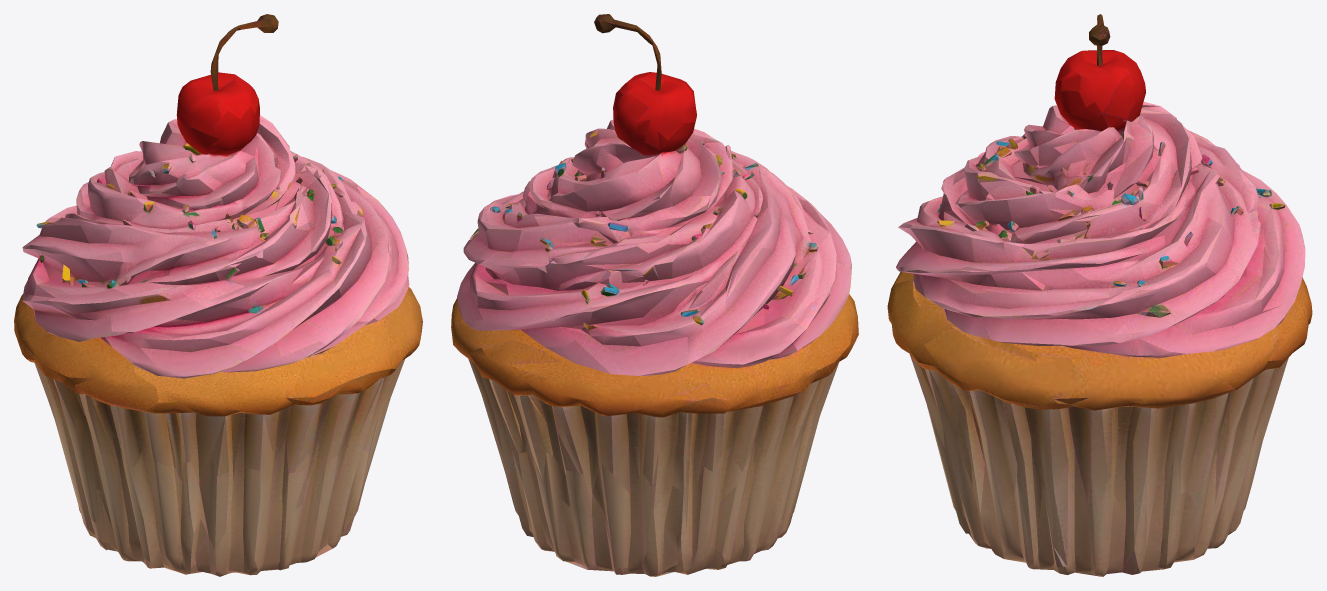
File: cupcake.glb
3 views of the same model, side by side, from view 1: azimuth 30°, elevation 25°; view 2: azimuth 150°, elevation 25°; view 3: azimuth 270°, elevation 25° (orthographic). The views are drawn at different scales.
Size of the model in its own units: 1.41 by 1.9 by 1.41.
Materials: 1 (1 with a texture image).
